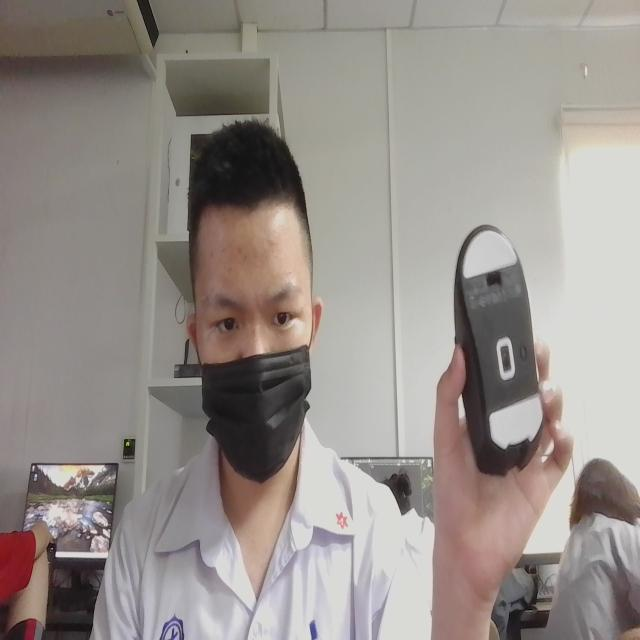mouse: (435, 209, 553, 476)
